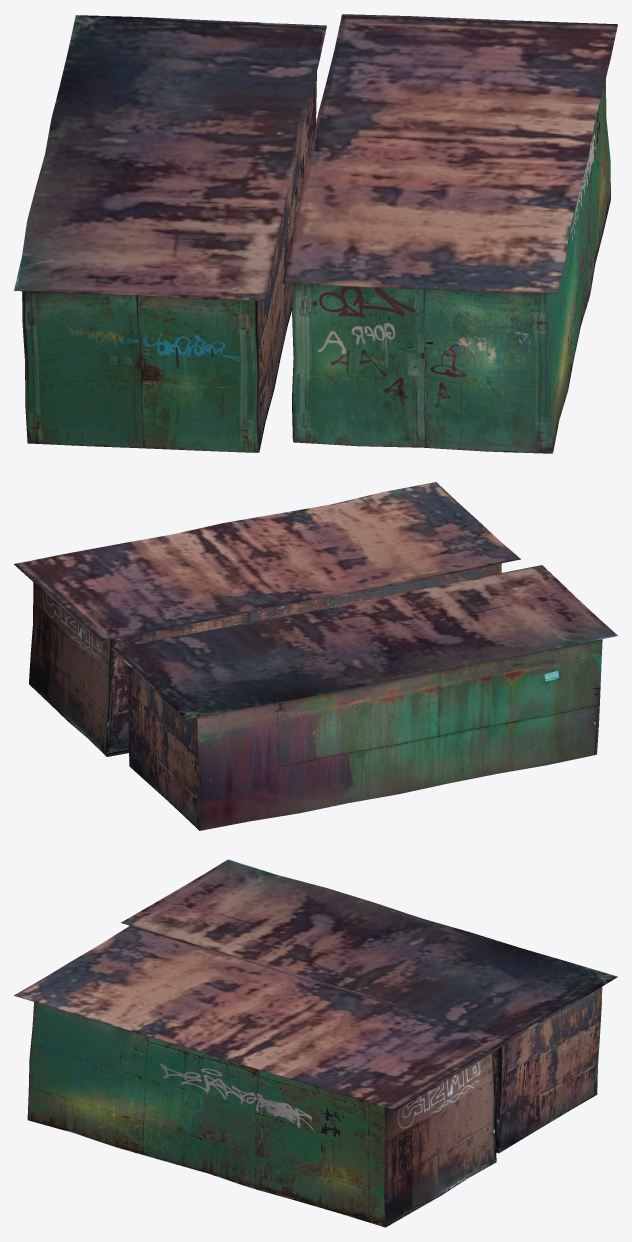
File: double_rusty_russian_garage.glb
The picture shows the model from 3 angles, top to bottom: view 1: azimuth 30°, elevation 25°; view 2: azimuth 150°, elevation 25°; view 3: azimuth 270°, elevation 25°; orthographic projection. The views are drawn at different scales.
Visible parts, largest first — view 1: Object001_Double garage_0, Box002; view 2: Box002, Object001_Double garage_0; view 3: Object001_Double garage_0, Box002.
Boxes of the visible parts, x1,y1,x2,y2 form: Object001_Double garage_0: [281, 14, 617, 453]; Box002: [14, 15, 326, 452]; Box002: [111, 565, 617, 830]; Object001_Double garage_0: [14, 482, 520, 756]; Object001_Double garage_0: [14, 925, 511, 1227]; Box002: [121, 859, 617, 1153].
Size of the model in its own units: 8.98 by 2.07 by 8.94.
1 material, 1 textured.
